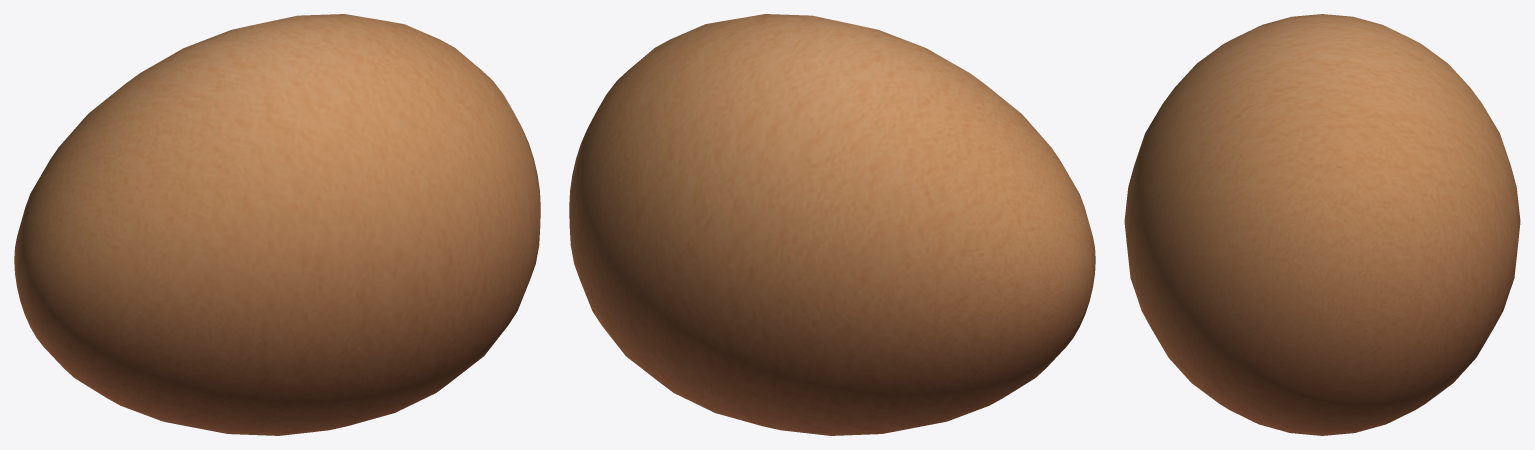
File: jidan_02.FBX
3 views of the same model, side by side, from view 1: azimuth 30°, elevation 25°; view 2: azimuth 150°, elevation 25°; view 3: azimuth 270°, elevation 25° (orthographic). The views are drawn at different scales.
Visible parts, largest first — view 1: jidan_02; view 2: jidan_02; view 3: jidan_02.
Part boxes in pixels (bbox=[...]): jidan_02: bbox=[14, 14, 540, 435]; jidan_02: bbox=[569, 14, 1095, 435]; jidan_02: bbox=[1124, 14, 1520, 435].
Size of the model in its own units: 6.84 by 5.05 by 5.12.
